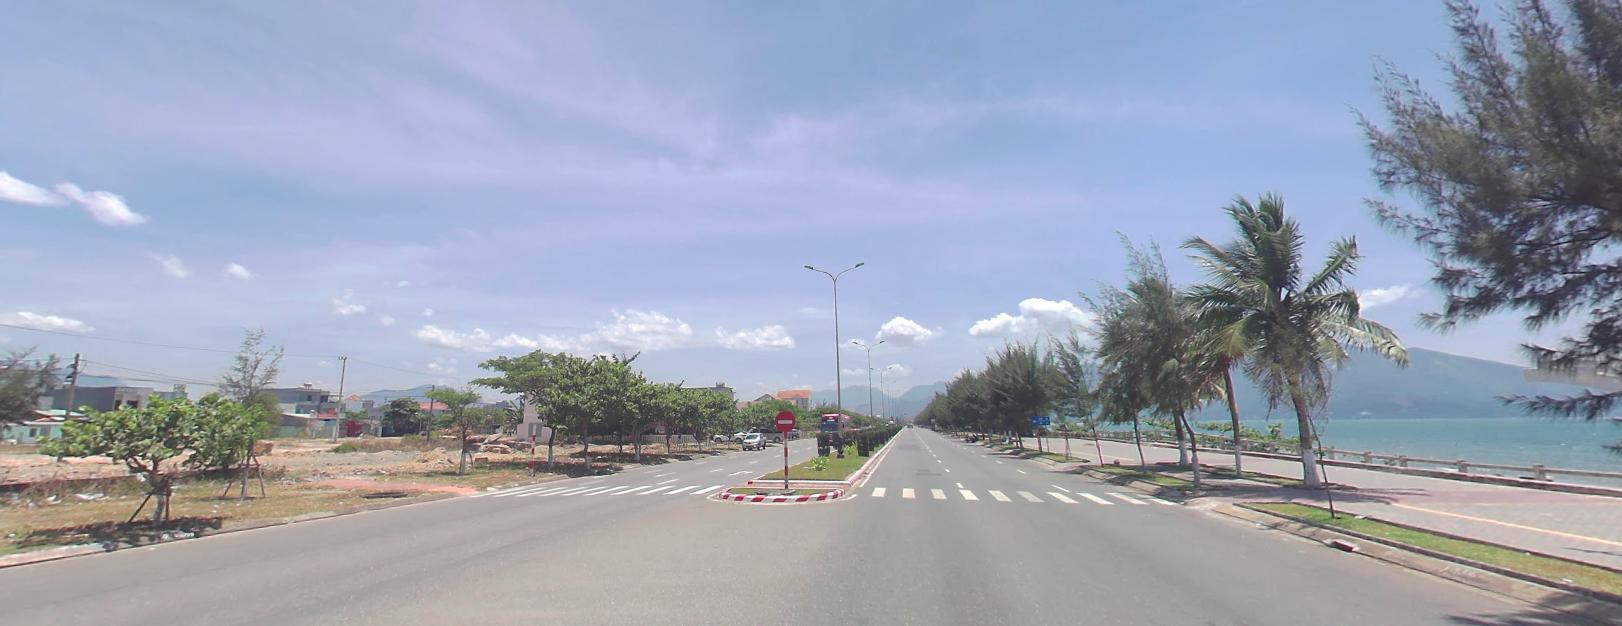Cam nguoc chieu: (775, 409, 794, 429)
